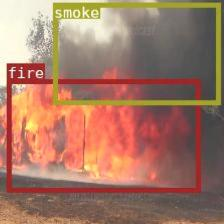fire: (6, 79, 199, 191)
smoke: (53, 2, 219, 104)
